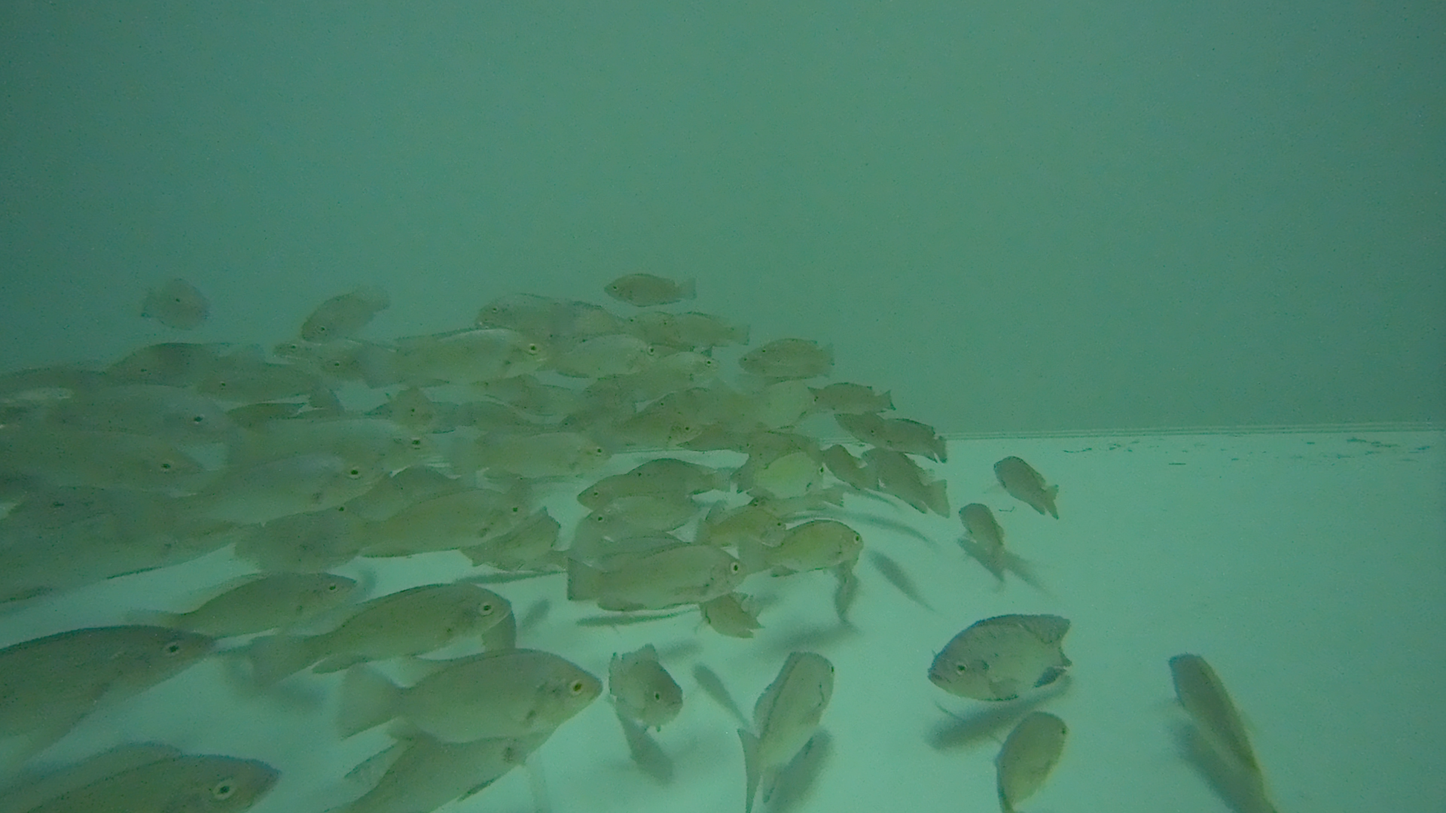fish: (355, 327, 554, 391), (447, 434, 609, 478), (604, 274, 695, 307)
